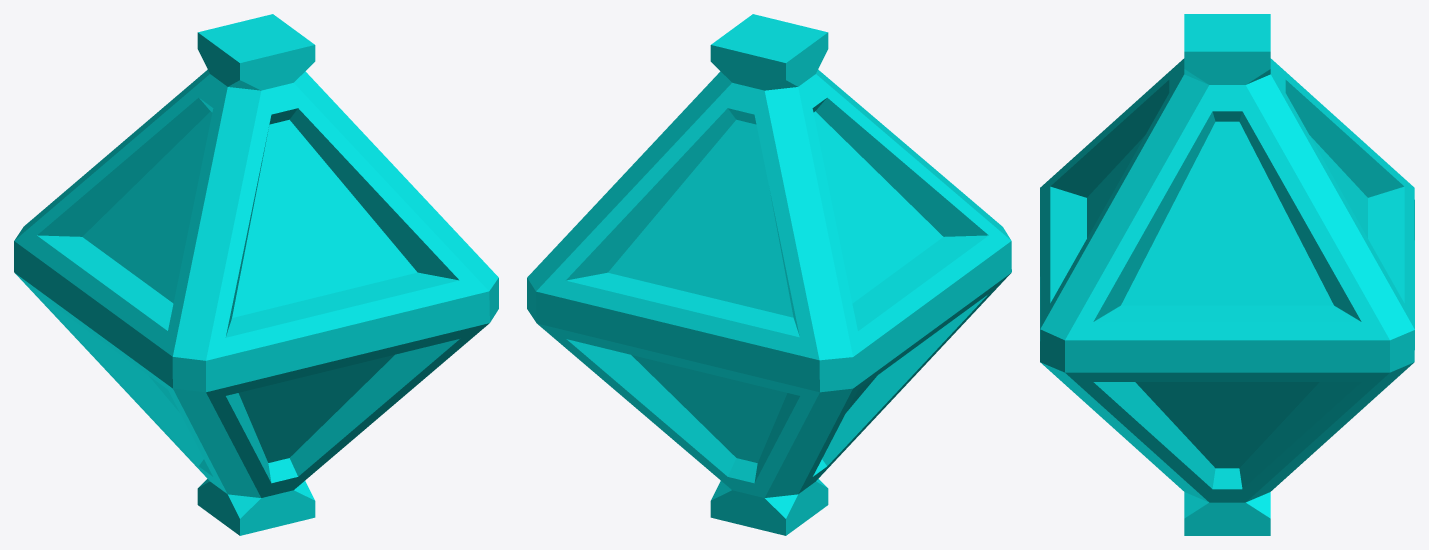
The model's file is Lantern.fbx.
3 renders of one model, left to right at view 1: azimuth 30°, elevation 25°; view 2: azimuth 150°, elevation 25°; view 3: azimuth 270°, elevation 25°, orthographic. The views are drawn at different scales.
Visible parts, largest first — view 1: Lantern; view 2: Lantern; view 3: Lantern.
Part boxes in pixels (x1,y1,x2,y2): Lantern: (14,14,498,535); Lantern: (527,14,1011,535); Lantern: (1040,14,1414,535).
Size of the model in its own units: 1.69 by 2.35 by 1.65.
